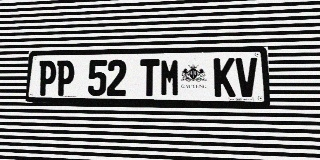2: (107, 59, 126, 96)
5: (88, 60, 107, 96)
K: (214, 58, 236, 97)
M: (160, 59, 180, 96)
P: (55, 60, 75, 96), (38, 60, 57, 96)
T: (140, 59, 160, 96)
V: (235, 58, 258, 97)
